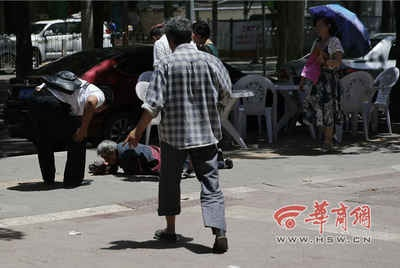falling: (87, 133, 173, 179)
